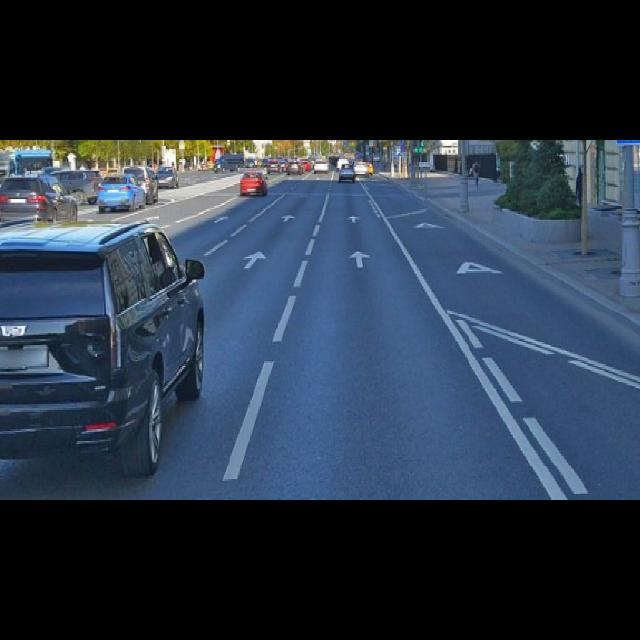road: (0, 173, 640, 500)
